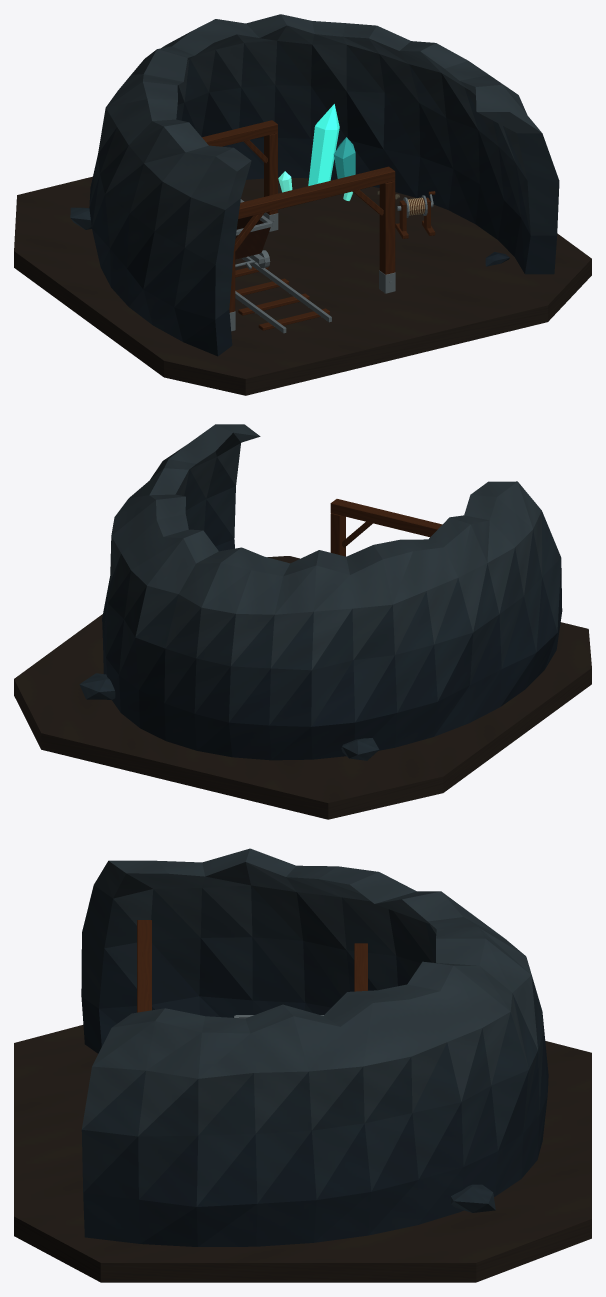
3 views of the same model, one above another, from view 1: azimuth 30°, elevation 25°; view 2: azimuth 150°, elevation 25°; view 3: azimuth 270°, elevation 25° (orthographic). The views are drawn at different scales.
Visible parts, largest first — view 1: cave_enclosure__continuous_cutaway_rock, floor__cut_stone_plinth, entrance_support__lintel, entrance_support, focal_crystal__six_sided_growth, inner_support, inner_support__lintel, focal_companion__six_sided_growth, rail_right__beam, abandoned_cart__end_plate_-1; view 2: cave_enclosure__continuous_cutaway_rock, floor__cut_stone_plinth, entrance_support__lintel, entrance_support, wall_boulder__weathered_mass, left_boulder__weathered_mass; view 3: cave_enclosure__continuous_cutaway_rock, floor__cut_stone_plinth, entrance_support__lintel, wall_boulder__weathered_mass, inner_support__lintel.
Part boxes in pixels (left/top/right/bottom): cave_enclosure__continuous_cutaway_rock: left=89, top=14, right=559, bottom=356; floor__cut_stone_plinth: left=14, top=176, right=591, bottom=395; entrance_support__lintel: left=238, top=166, right=395, bottom=219; entrance_support: left=352, top=181, right=395, bottom=293; focal_crystal__six_sided_growth: left=308, top=104, right=339, bottom=185; inner_support: left=243, top=133, right=278, bottom=231; inner_support__lintel: left=202, top=120, right=277, bottom=146; focal_companion__six_sided_growth: left=333, top=137, right=355, bottom=178; rail_right__beam: left=241, top=256, right=331, bottom=322; abandoned_cart__end_plate_-1: left=235, top=227, right=270, bottom=258; cave_enclosure__continuous_cutaway_rock: left=102, top=424, right=562, bottom=760; floor__cut_stone_plinth: left=14, top=556, right=591, bottom=819; entrance_support__lintel: left=330, top=499, right=442, bottom=536; entrance_support: left=330, top=513, right=372, bottom=556; wall_boulder__weathered_mass: left=79, top=673, right=115, bottom=699; left_boulder__weathered_mass: left=341, top=738, right=379, bottom=760; cave_enclosure__continuous_cutaway_rock: left=81, top=848, right=548, bottom=1246; floor__cut_stone_plinth: left=14, top=1025, right=591, bottom=1282; entrance_support__lintel: left=137, top=920, right=151, bottom=1012; wall_boulder__weathered_mass: left=450, top=1184, right=495, bottom=1212; inner_support__lintel: left=354, top=943, right=367, bottom=991.
Bounding box in the file's own units: 12 × 5.15 × 12.
12 materials, 7 textured.
